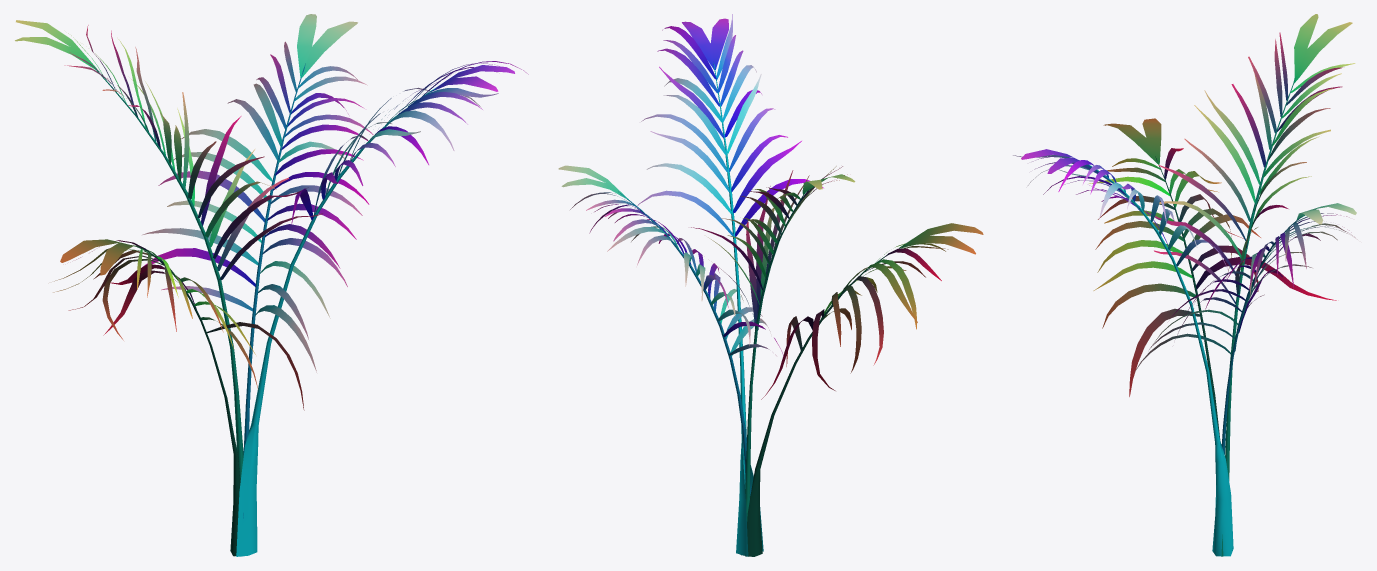
The model's file is ukgkcilia_VarD_LOD2.fbx.
The picture shows the model from 3 angles, left to right: view 1: azimuth 30°, elevation 25°; view 2: azimuth 150°, elevation 25°; view 3: azimuth 270°, elevation 25°; orthographic projection. The views are drawn at different scales.
Parts seen in each view (by area): view 1: _wqy1_VarD_LOD3; view 2: _wqy1_VarD_LOD3; view 3: _wqy1_VarD_LOD3.
Part boxes in pixels (x1=…): _wqy1_VarD_LOD3: x1=15, y1=14, x2=528, y2=556; _wqy1_VarD_LOD3: x1=558, y1=14, x2=983, y2=556; _wqy1_VarD_LOD3: x1=1013, y1=14, x2=1357, y2=556.
Size of the model in its own units: 91.4 by 108 by 74.21.
